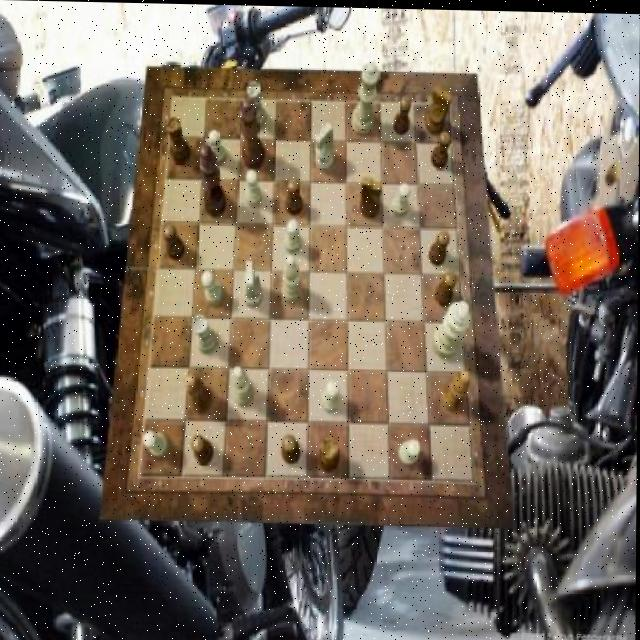bishop: (442, 368, 471, 410), (187, 374, 214, 413)
black-bishop: (199, 142, 227, 216)
black-king: (427, 83, 454, 132), (360, 176, 383, 217)
black-knight: (435, 269, 458, 306), (163, 225, 186, 260), (432, 129, 452, 167), (429, 229, 450, 265), (393, 94, 411, 135), (193, 434, 215, 465), (286, 177, 303, 215), (282, 434, 301, 464)
black-pawn: (239, 98, 266, 171)
black-queen: (167, 117, 192, 165), (319, 435, 340, 470)
black-rook: (283, 254, 303, 304), (233, 366, 256, 406)
white-bishop: (433, 298, 471, 358)
white-king: (243, 260, 264, 306), (315, 121, 334, 170)
white-knight: (203, 270, 226, 305), (143, 430, 170, 458), (246, 169, 264, 207), (209, 130, 228, 166), (391, 181, 410, 215), (322, 380, 340, 414), (285, 217, 302, 252), (399, 438, 421, 464)
white-pawn: (352, 58, 379, 133)
white-queen: (193, 314, 220, 355), (247, 82, 267, 129)
